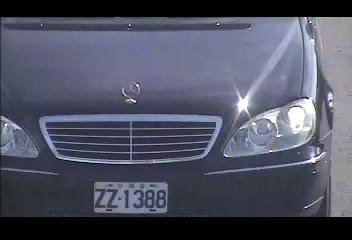plate: (91, 180, 169, 214)
